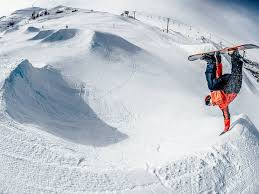snowboard: (186, 43, 259, 63)
